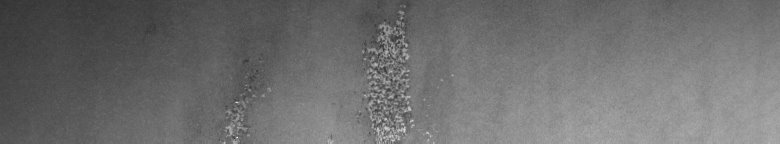hc: (219, 53, 272, 136)
